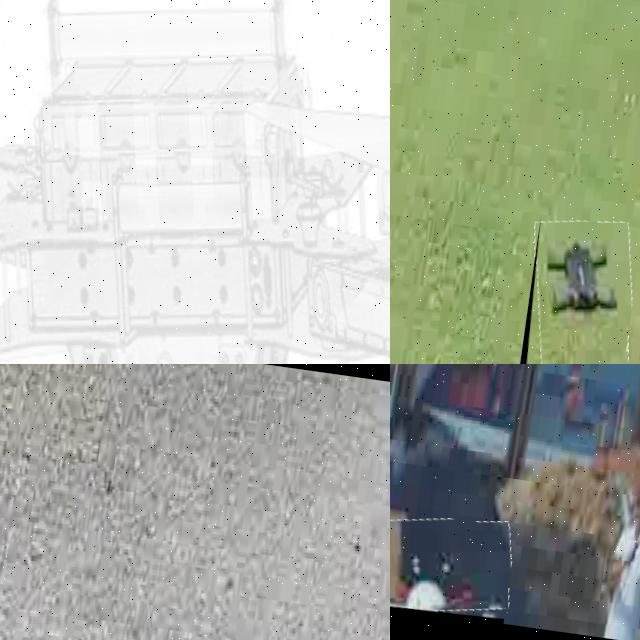drone: (0, 0, 390, 364), (519, 214, 640, 364), (390, 504, 517, 624)
